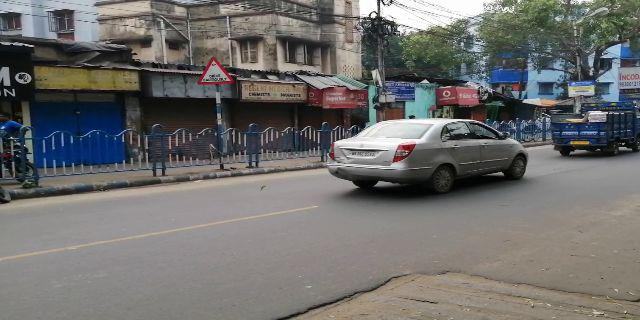Car: (327, 120, 532, 195)
Minitruck: (548, 99, 636, 158)
